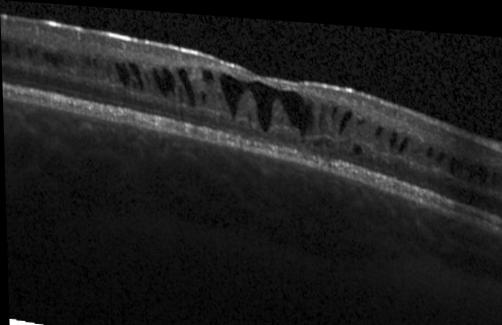intraretinal_cyst: (219, 70, 313, 136), (178, 65, 195, 104), (152, 66, 168, 96), (128, 60, 143, 87), (162, 65, 176, 92), (337, 105, 352, 130), (114, 61, 130, 84), (468, 157, 487, 176), (42, 51, 63, 66), (317, 98, 328, 126), (449, 150, 463, 170), (313, 132, 331, 143), (397, 131, 407, 148), (201, 67, 214, 80), (389, 126, 397, 143), (351, 138, 362, 150), (330, 101, 338, 115), (436, 145, 446, 156), (177, 83, 183, 101), (2, 41, 9, 55), (14, 44, 21, 57), (144, 71, 151, 83), (425, 141, 433, 151), (375, 120, 382, 131), (200, 89, 206, 101), (356, 111, 365, 119), (27, 48, 34, 58), (131, 78, 136, 86), (85, 56, 90, 64), (92, 58, 97, 65)
